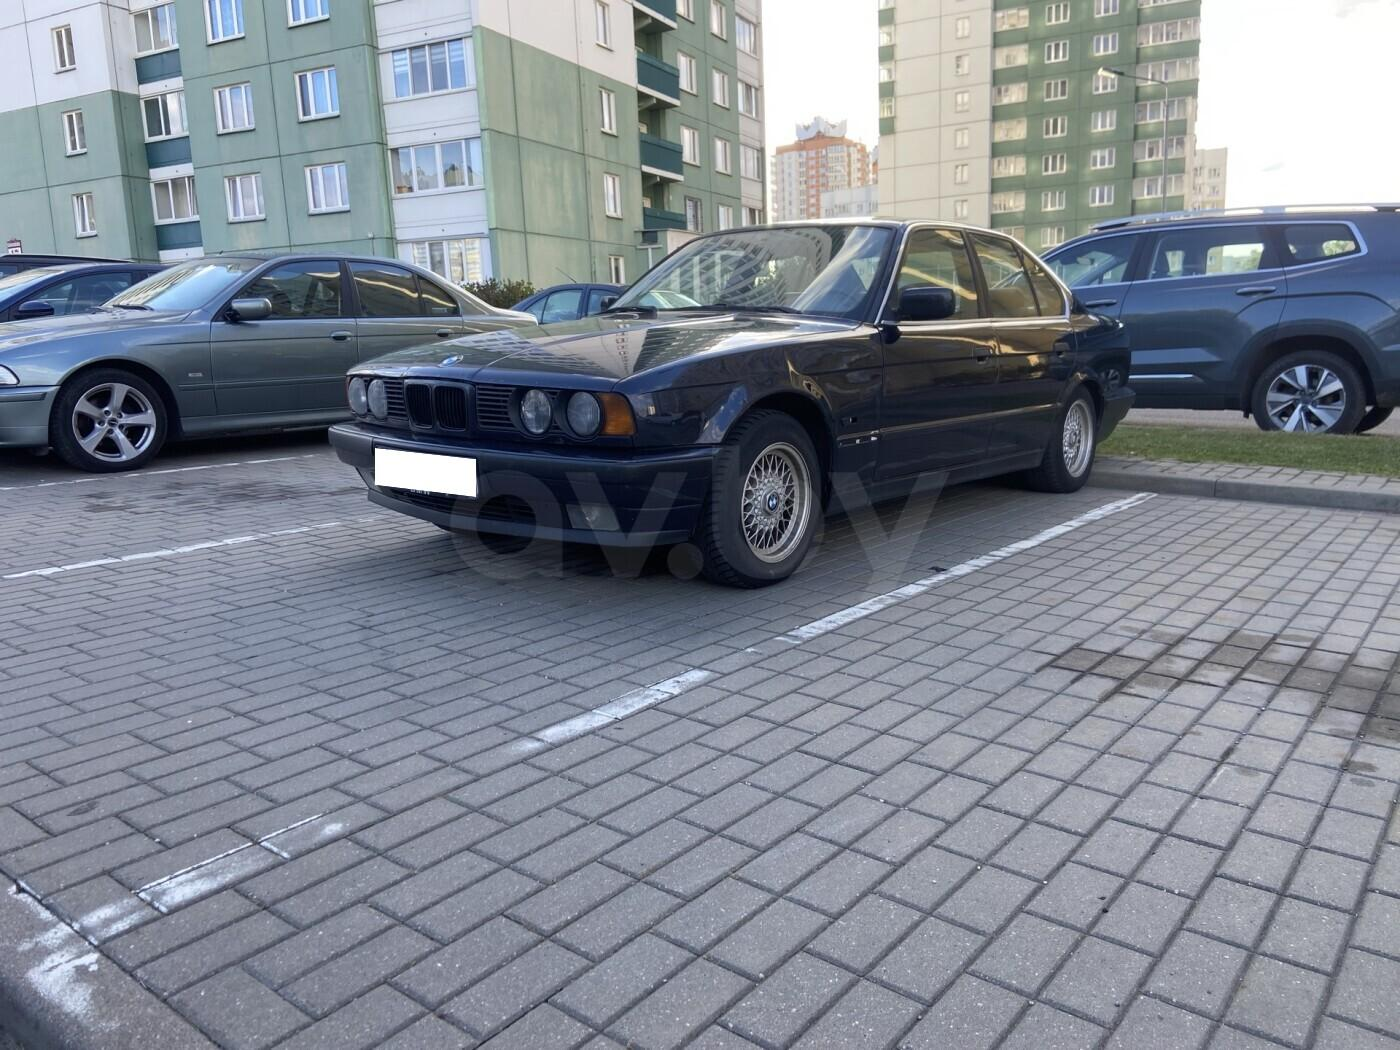BMW_E34_1994_4200: (323, 218, 1138, 587)
